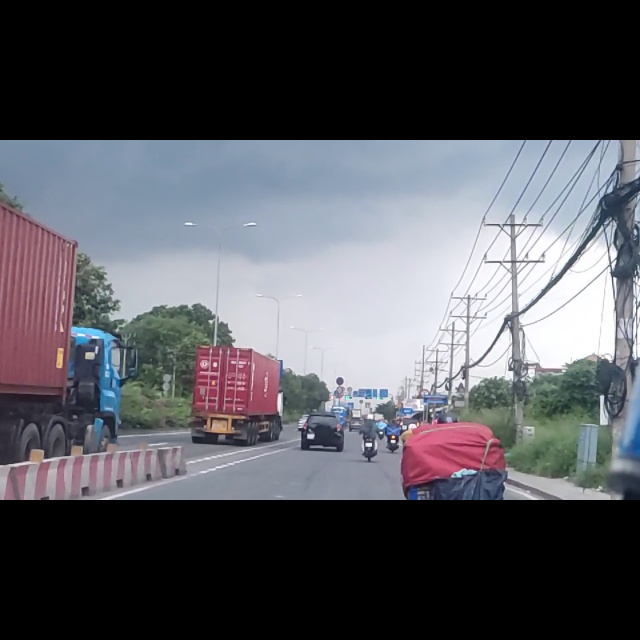bien_chi_dan: (335, 420, 345, 436)
